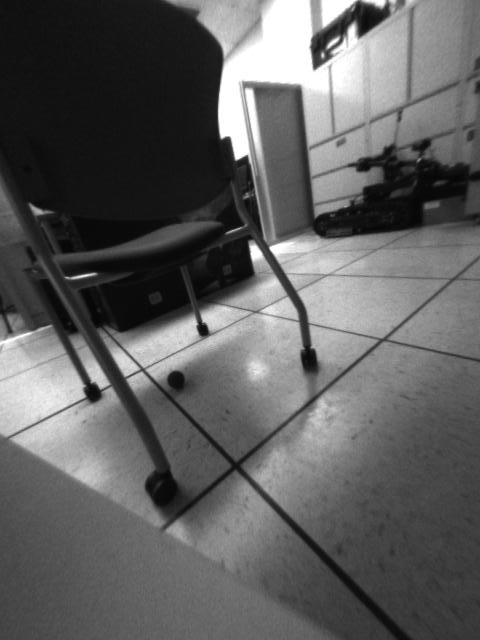dogtoy: (158, 366, 196, 398)
